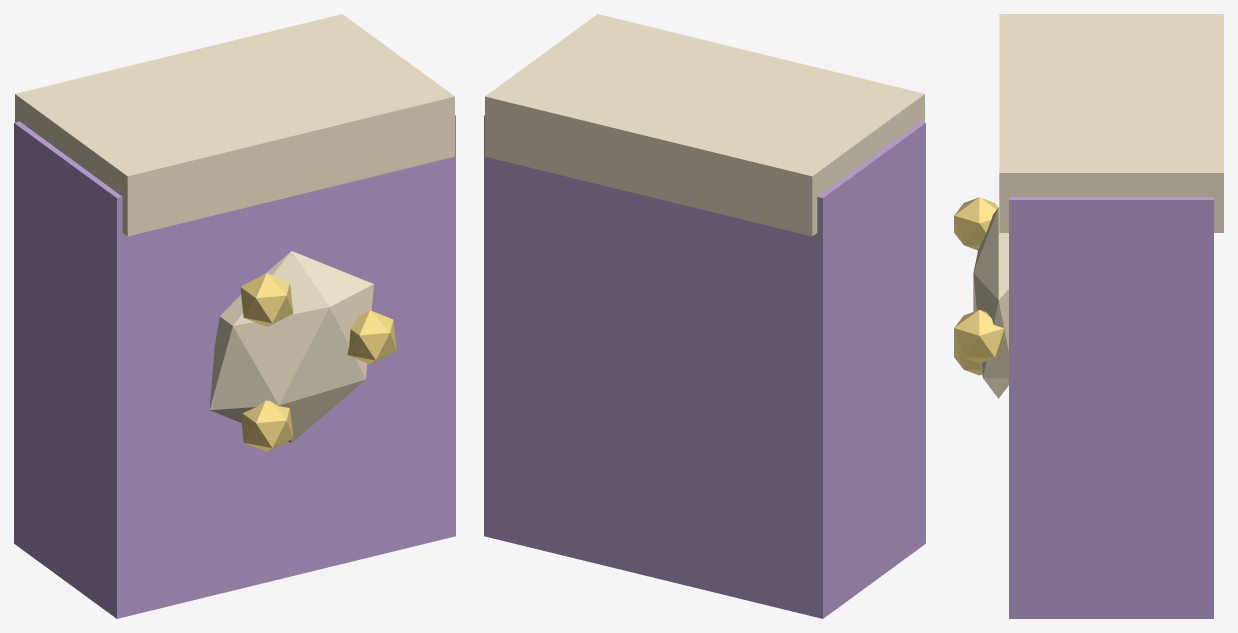
File: fertilizer_mutation.glb
3 renders of one model, left to right at view 1: azimuth 30°, elevation 25°; view 2: azimuth 150°, elevation 25°; view 3: azimuth 270°, elevation 25°, orthographic.
Visible parts, largest first — view 1: fertilizer pouch.001, folded pouch rim.001, bright emblem.001, spark.001, spark.002, spark; view 2: fertilizer pouch.001, folded pouch rim.001; view 3: fertilizer pouch.001, folded pouch rim.001, bright emblem.001, spark, spark.001.
Boxes of the visible parts, x1,y1,x2,y2 form: fertilizer pouch.001: (14,115,455,618); folded pouch rim.001: (15,14,454,236); bright emblem.001: (209,251,373,443); spark.001: (240,273,293,326); spark.002: (241,400,293,451); spark: (347,310,396,364); fertilizer pouch.001: (484,115,925,618); folded pouch rim.001: (485,14,924,236); fertilizer pouch.001: (1009,197,1213,618); folded pouch rim.001: (999,14,1223,232); bright emblem.001: (973,207,1008,398); spark: (954,309,1004,363); spark.001: (954,197,998,250).
Bounding box in the file's own units: 0.59 × 0.74 × 0.4083.
